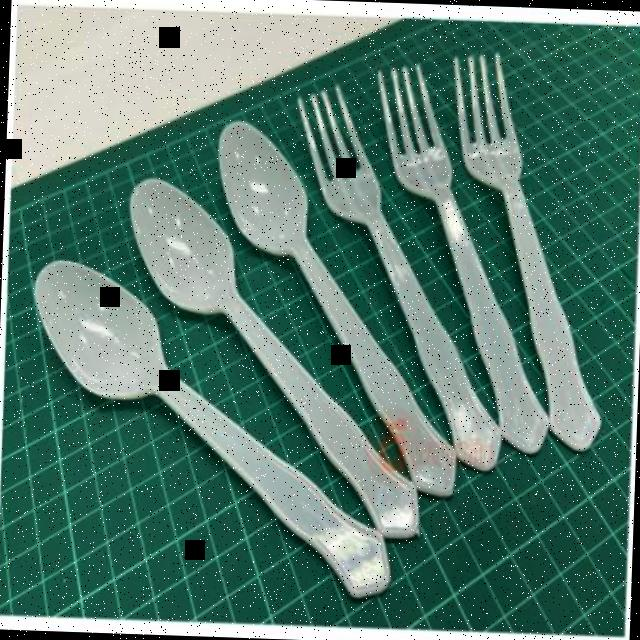plastic_spoon: (19, 37, 613, 607)
